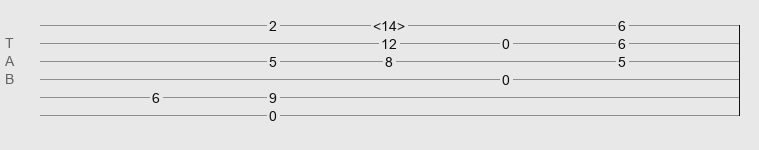0: (269, 108, 277, 118), (502, 72, 510, 82), (502, 36, 510, 46)
12: (381, 36, 397, 46)
2: (269, 18, 277, 28)
5: (269, 54, 277, 64), (618, 54, 626, 64)
6: (152, 90, 160, 100), (618, 36, 626, 46), (618, 18, 626, 28)
8: (385, 54, 393, 64)
9: (269, 90, 277, 100)
harmonic: (373, 18, 405, 28)
